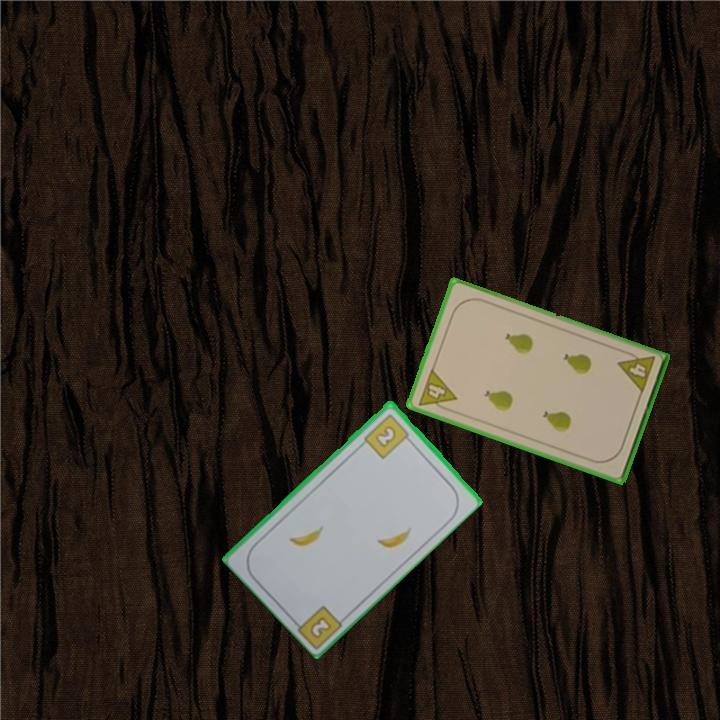2b: (360, 410, 415, 461), (306, 613, 334, 641)
4p: (414, 365, 460, 415), (614, 347, 658, 396)
